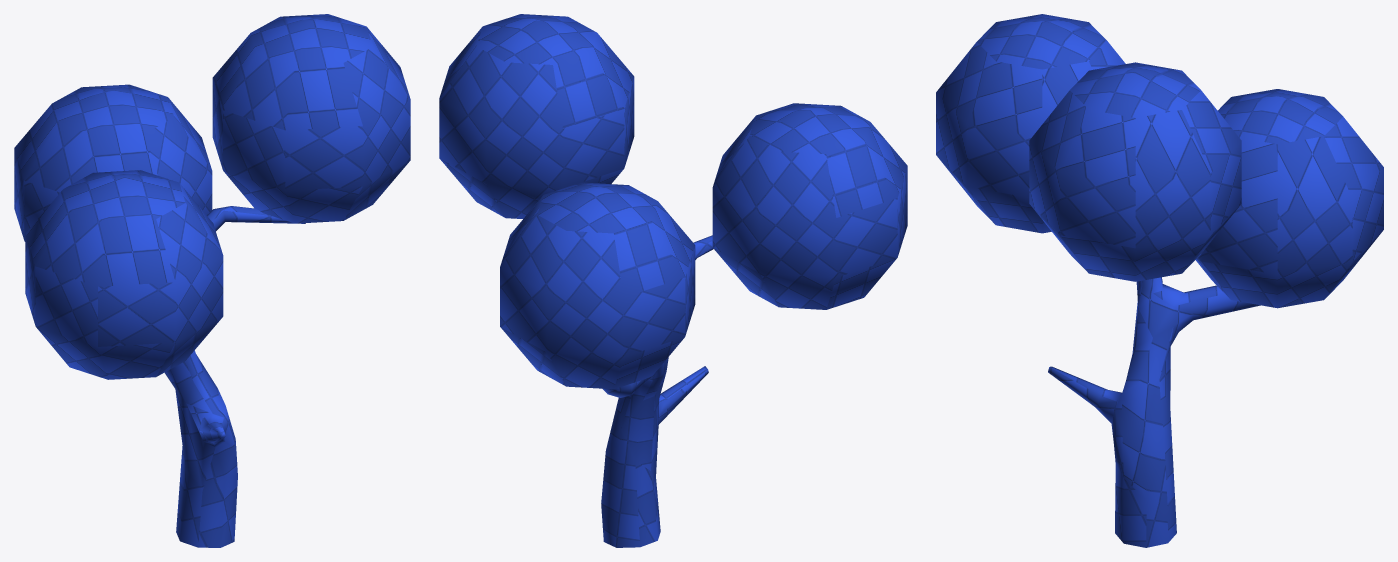
File: SmallTreePH.fbx
3 views of the same model, side by side, from view 1: azimuth 30°, elevation 25°; view 2: azimuth 150°, elevation 25°; view 3: azimuth 270°, elevation 25° (orthographic). The views are drawn at different scales.
Visible parts, largest first — view 1: Tree; view 2: Tree; view 3: Tree.
Part boxes in pixels (left/top/right/bottom): Tree: left=14, top=14, right=410, bottom=547; Tree: left=439, top=14, right=907, bottom=547; Tree: left=936, top=14, right=1383, bottom=547.
Bounding box in the file's own units: 439 × 401 × 509.
